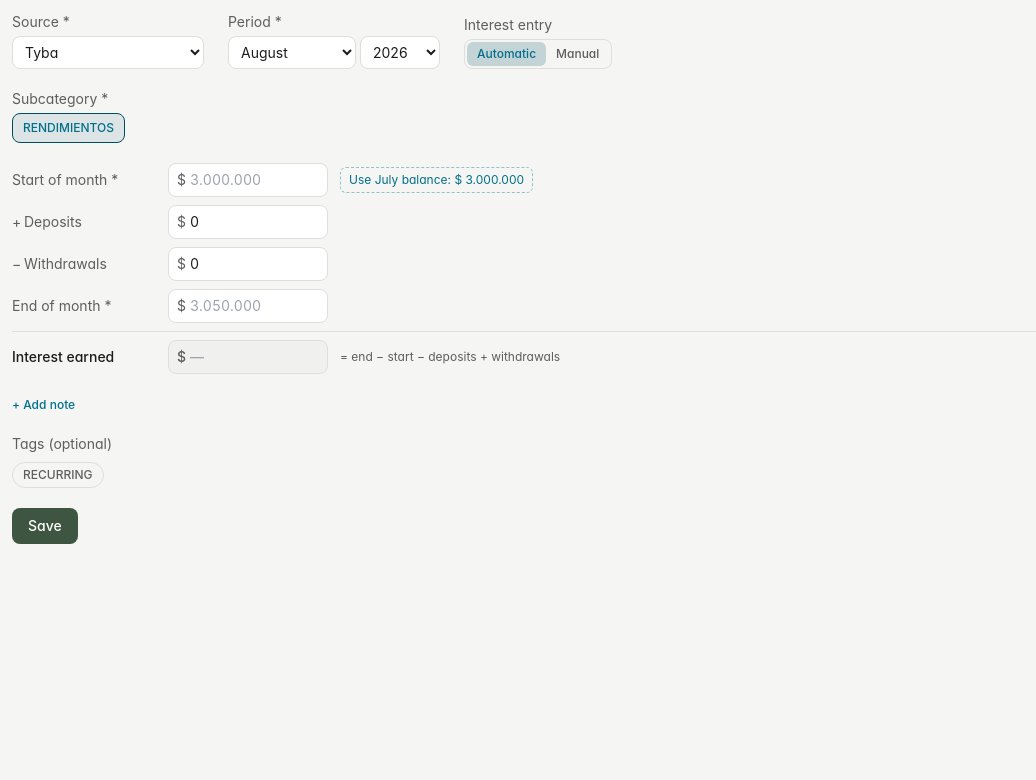
InterestIncomeForm › ofrece el saldo del mes anterior desde el cache y calcula el interes
The image size is (1036, 780).
Periodo por defecto: agosto. Tyba tiene saldo final de julio en las opciones.
Click the button with test id "use-previous-balance" at (436, 180), box [340,167,533,193]
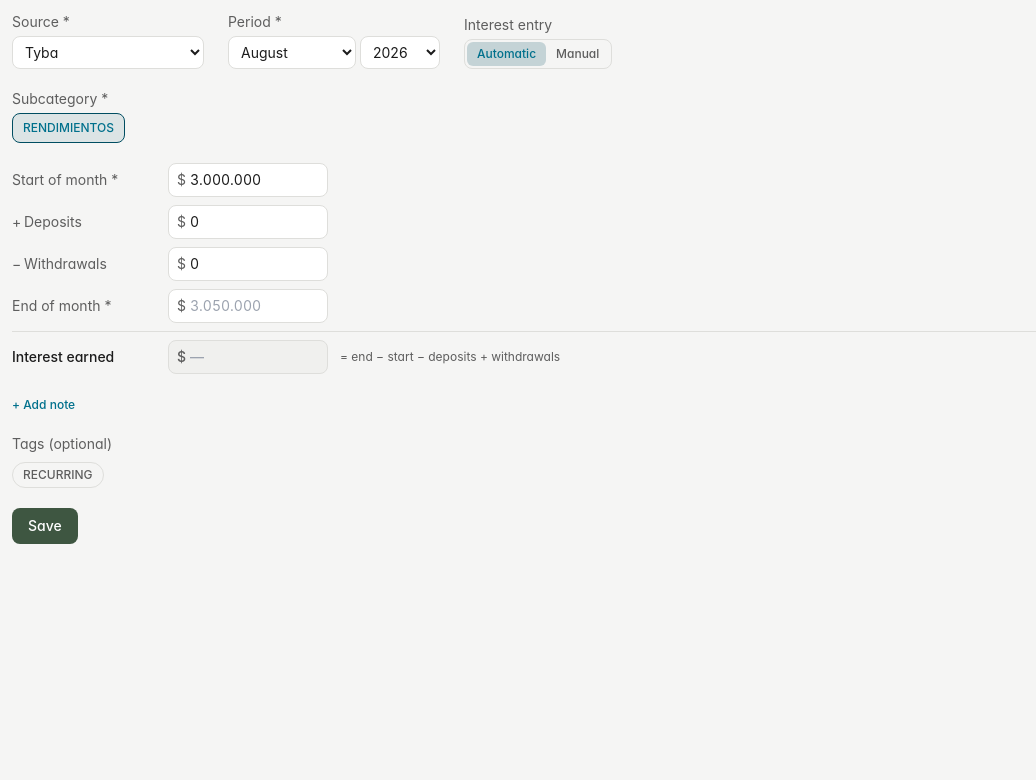
Result: the field next to "Start of month *" holds "3.000.000" at [190,170,319,190]
Type "500000" into the 2nd field at (254, 222), box [190,212,319,232]
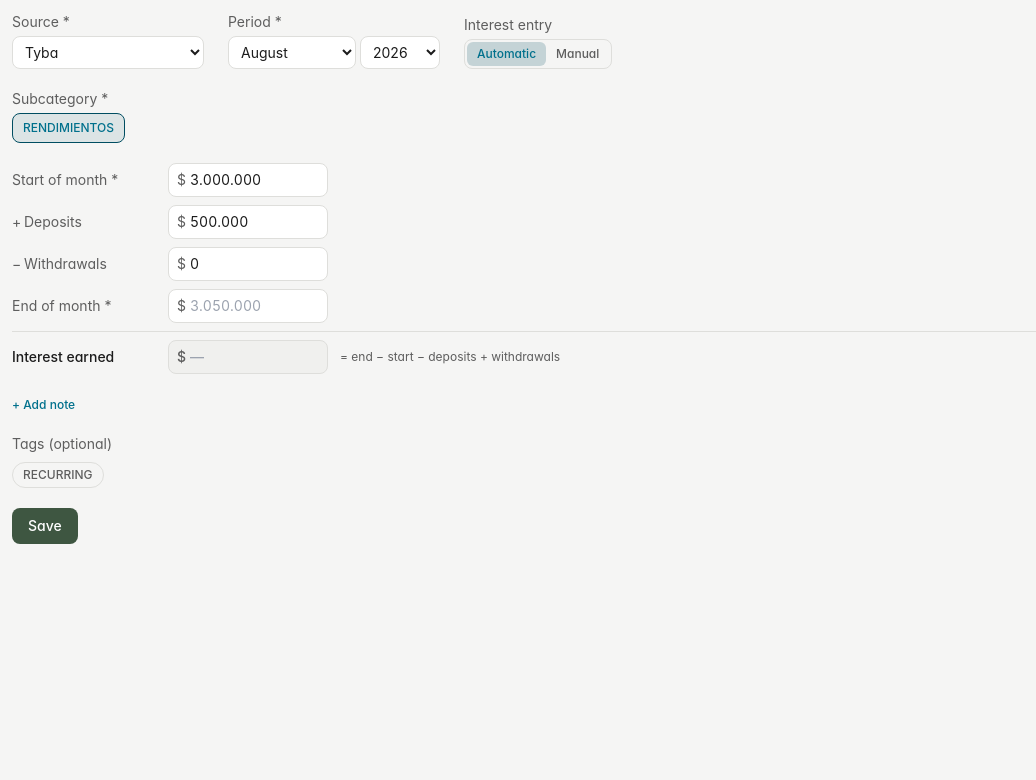
Type "3550000,25" into the field with placeholder "3.050.000" at (254, 306), box [190,296,319,316]
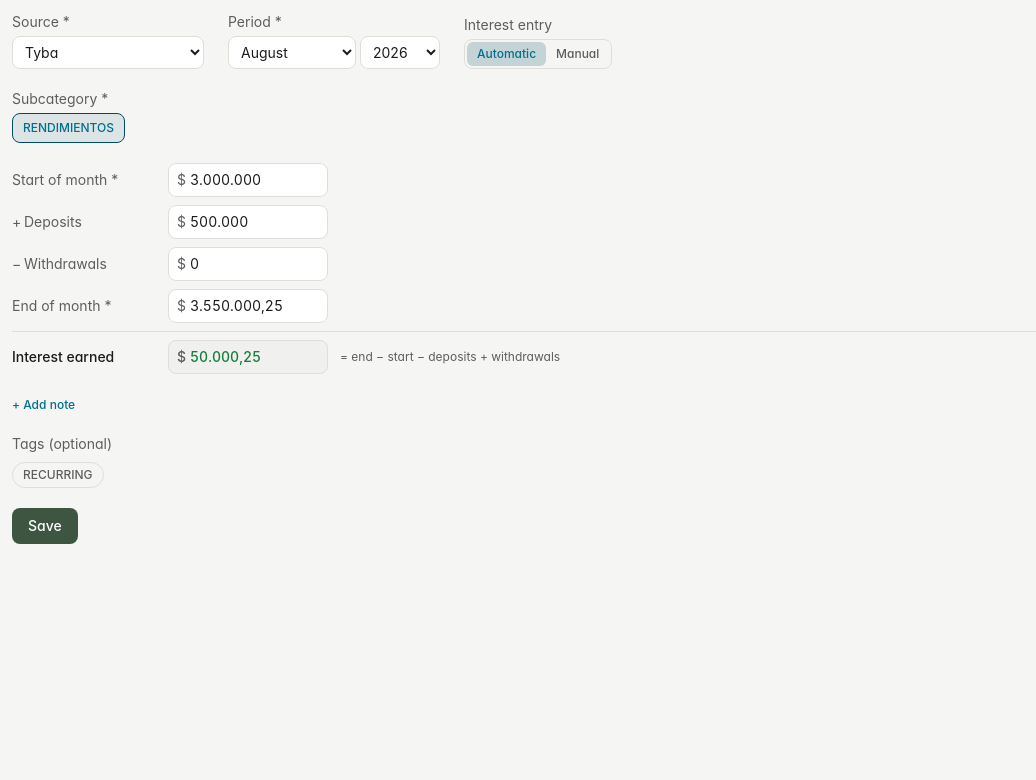
Result: the field next to "= end − start − deposits + withdrawals" holds "50.000,25" at [190,347,319,367]
Submit the form
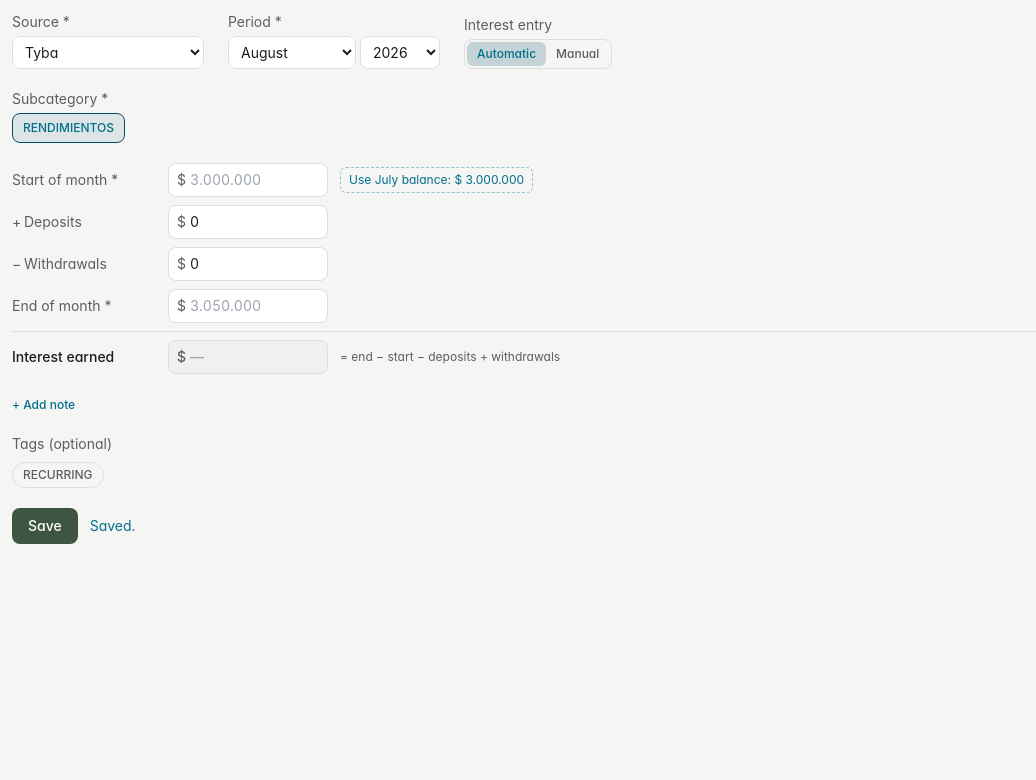
Select "September" in the dropdown with test id "interest-month" at (292, 52), box [228,36,356,69]
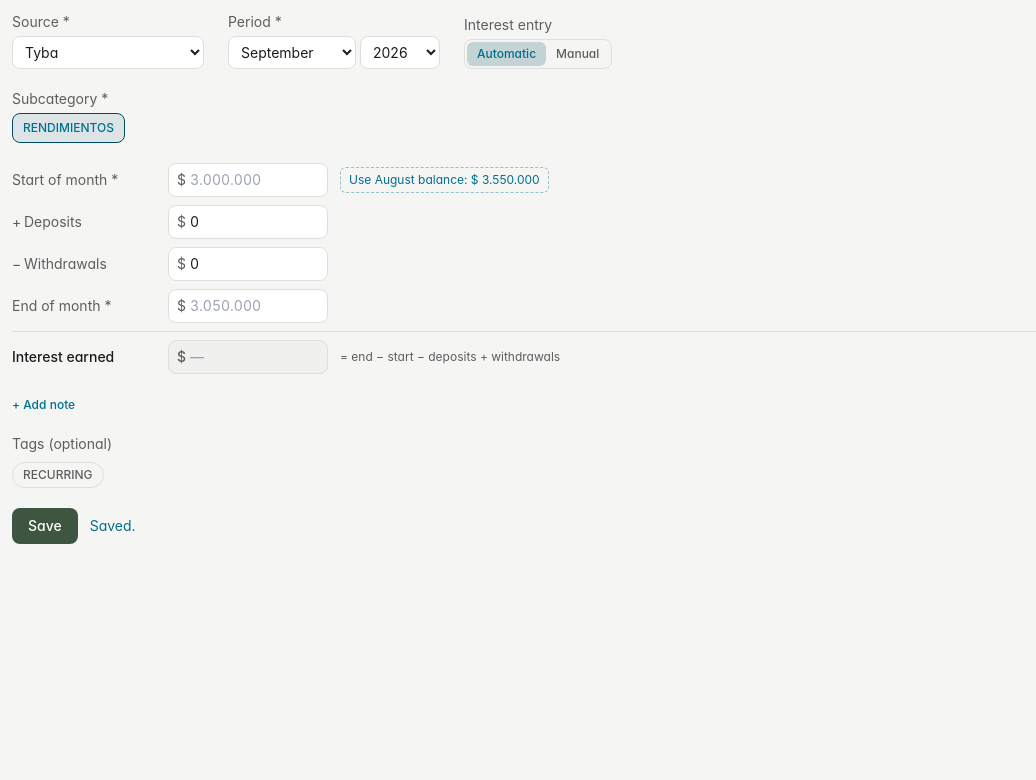
Result: the button with test id "use-previous-balance" shows "3.550.000" at [340,167,549,193]
